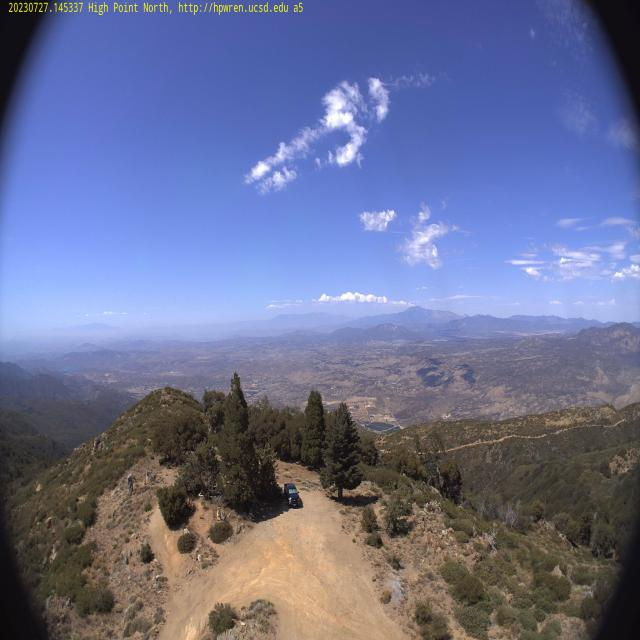smoke: (558, 296, 582, 340)
